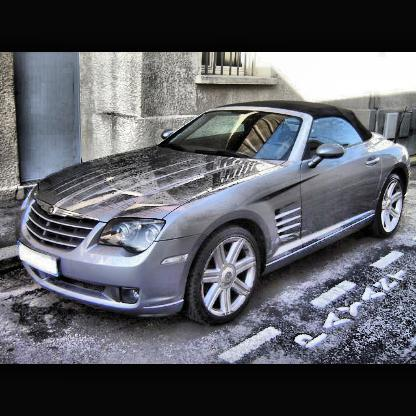Chrysler Crossfire Convertible 2008: (19, 100, 414, 328)
